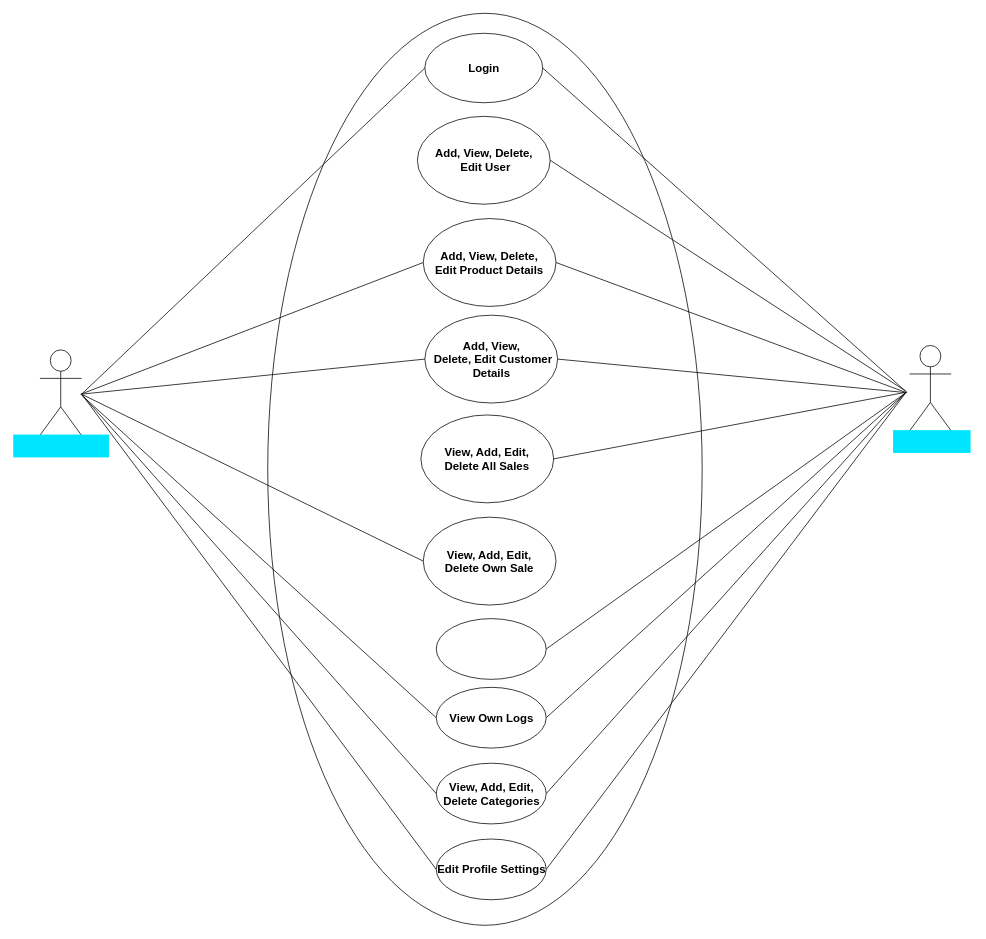
Some shapes in this 986 by 939 pixel diagram are drawn without their labels. The shapes that lost their labels are listed below. From the top down, each one's centre as x and y in pixels, then its label:
At point (61, 445): "Employee User".
At point (931, 441): "Admin User".
At point (490, 648): "View All Logs".
